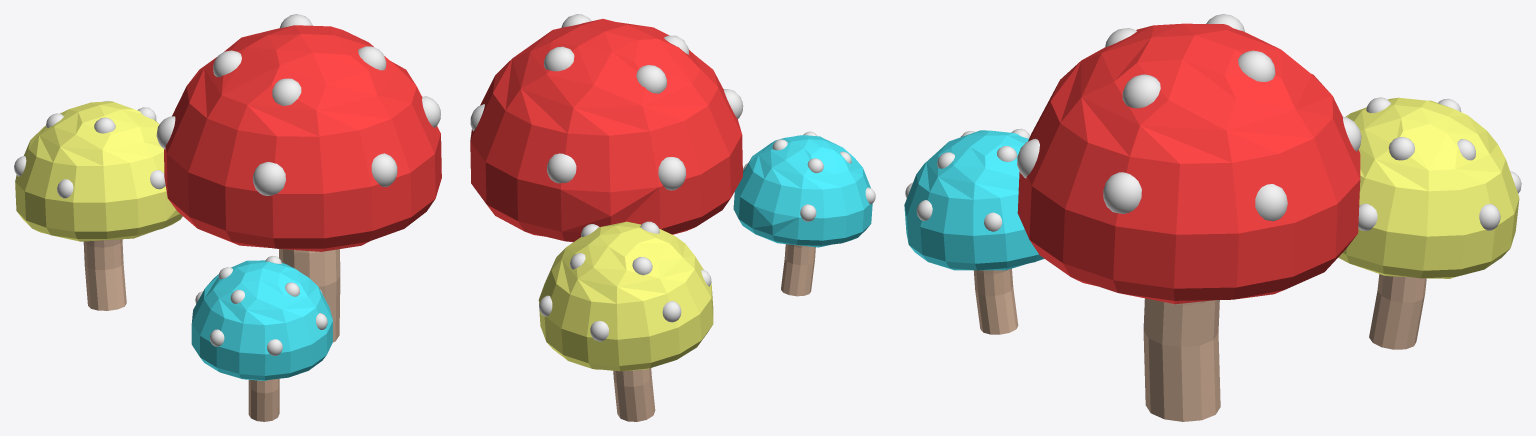
Rendered from Mushroom.glb.
3 views of the same model, side by side, from view 1: azimuth 30°, elevation 25°; view 2: azimuth 150°, elevation 25°; view 3: azimuth 270°, elevation 25° (orthographic). The views are drawn at different scales.
Parts seen in each view (by area): view 1: Sphere001, Sphere023, Sphere012, Cylinder003, Cylinder001, Cylinder002, Sphere005, Sphere004, Sphere002, Sphere007, Sphere003, Sphere011 (+1 smaller); view 2: Sphere001, Sphere023, Sphere012, Cylinder003, Cylinder002, Sphere006, Sphere010, Sphere007, Sphere008; view 3: Sphere001, Sphere023, Sphere012, Cylinder001, Cylinder003, Cylinder002, Sphere011, Sphere003, Sphere009, Sphere008, Sphere004.
Boxes of the visible parts, x1,y1,x2,y2 form: Sphere001: (164,25,441,251); Sphere023: (15,101,182,241); Sphere012: (191,260,332,380); Cylinder003: (83,239,126,310); Cylinder001: (279,249,340,342); Cylinder002: (248,378,279,421); Sphere005: (253,162,285,195); Sphere004: (371,153,397,186); Sphere002: (272,78,301,105); Sphere007: (213,50,241,77); Sphere003: (358,46,386,70); Sphere011: (422,96,440,127); Sphere001: (470,19,742,242); Sphere023: (538,221,713,371); Sphere012: (733,135,872,247); Cylinder003: (613,368,655,421); Cylinder002: (781,244,815,296); Sphere006: (658,157,686,190); Sphere010: (547,153,576,183); Sphere007: (636,65,666,93); Sphere008: (544,46,574,71); Sphere001: (1017,23,1360,304); Sphere023: (1338,97,1519,278); Sphere012: (904,130,1044,270); Cylinder001: (1143,298,1220,421); Cylinder003: (1369,274,1426,349); Cylinder002: (973,268,1018,334); Sphere011: (1103,172,1141,213); Sphere003: (1122,74,1160,108); Sphere009: (1255,184,1287,221); Sphere008: (1238,50,1275,81); Sphere004: (1017,138,1039,178).
Bounding box in the file's own units: 1035 × 980 × 1463.
